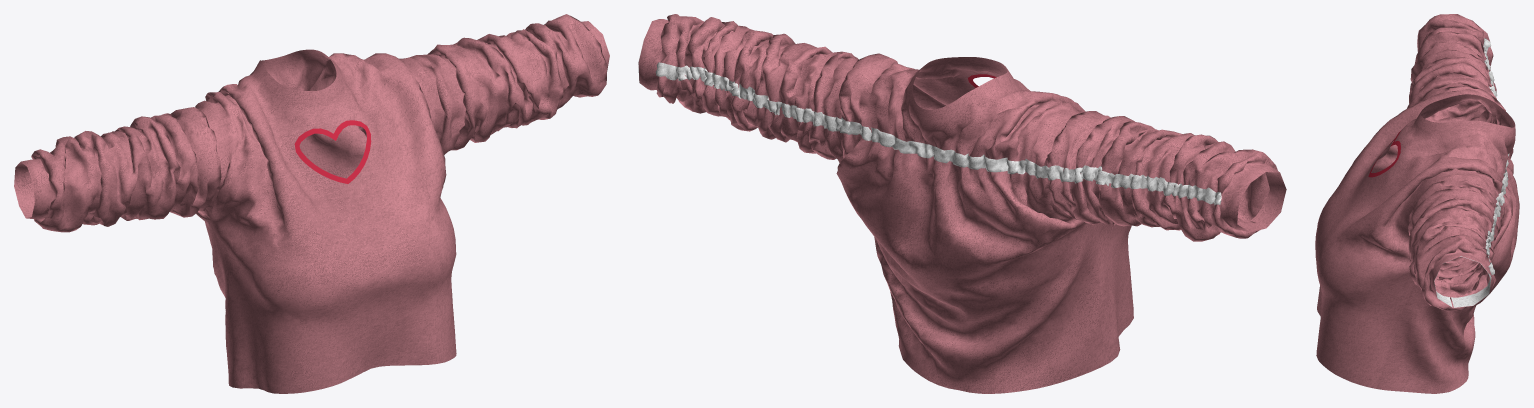
3 views of the same model, side by side, from view 1: azimuth 30°, elevation 25°; view 2: azimuth 150°, elevation 25°; view 3: azimuth 270°, elevation 25° (orthographic). The views are drawn at different scales.
Parts seen in each view (by area): view 1: BodyTop; view 2: BodyTop; view 3: BodyTop.
Part boxes in pixels (<box>): BodyTop: <box>14,14,609,393</box>; BodyTop: <box>638,14,1286,393</box>; BodyTop: <box>1315,14,1519,393</box>.
Size of what is drawn, in the model's own units: 0.6365 by 0.3124 by 0.2205.
Materials: 13 (12 with a texture image).
